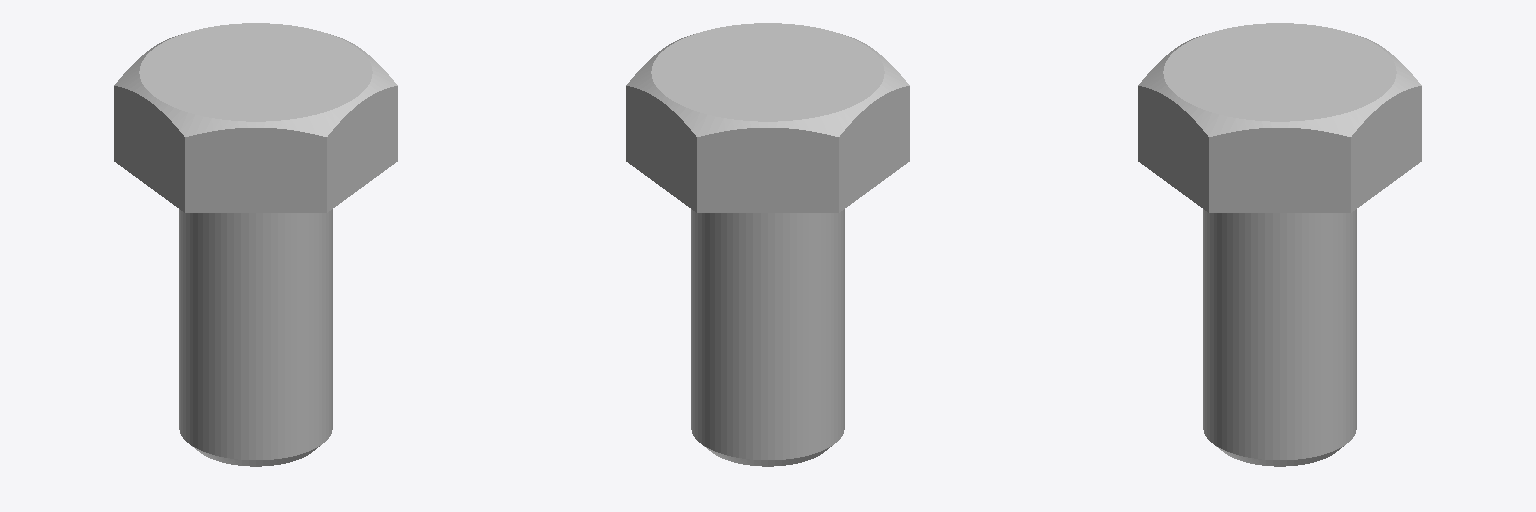
Rendered from Болт M10-6g×20(S16) ГОСТ 7798-70.obj.
3 views of the same model, side by side, from view 1: azimuth 30°, elevation 25°; view 2: azimuth 150°, elevation 25°; view 3: azimuth 270°, elevation 25° (orthographic).
Parts seen in each view (by area): view 1: Solid1; view 2: Solid1; view 3: Solid1.
Part boxes in pixels (x1,y1,x2,y2): Solid1: (114,23,397,466); Solid1: (626,23,909,466); Solid1: (1138,23,1421,466).
Size of the model in its own units: 16 by 26.4 by 18.48.